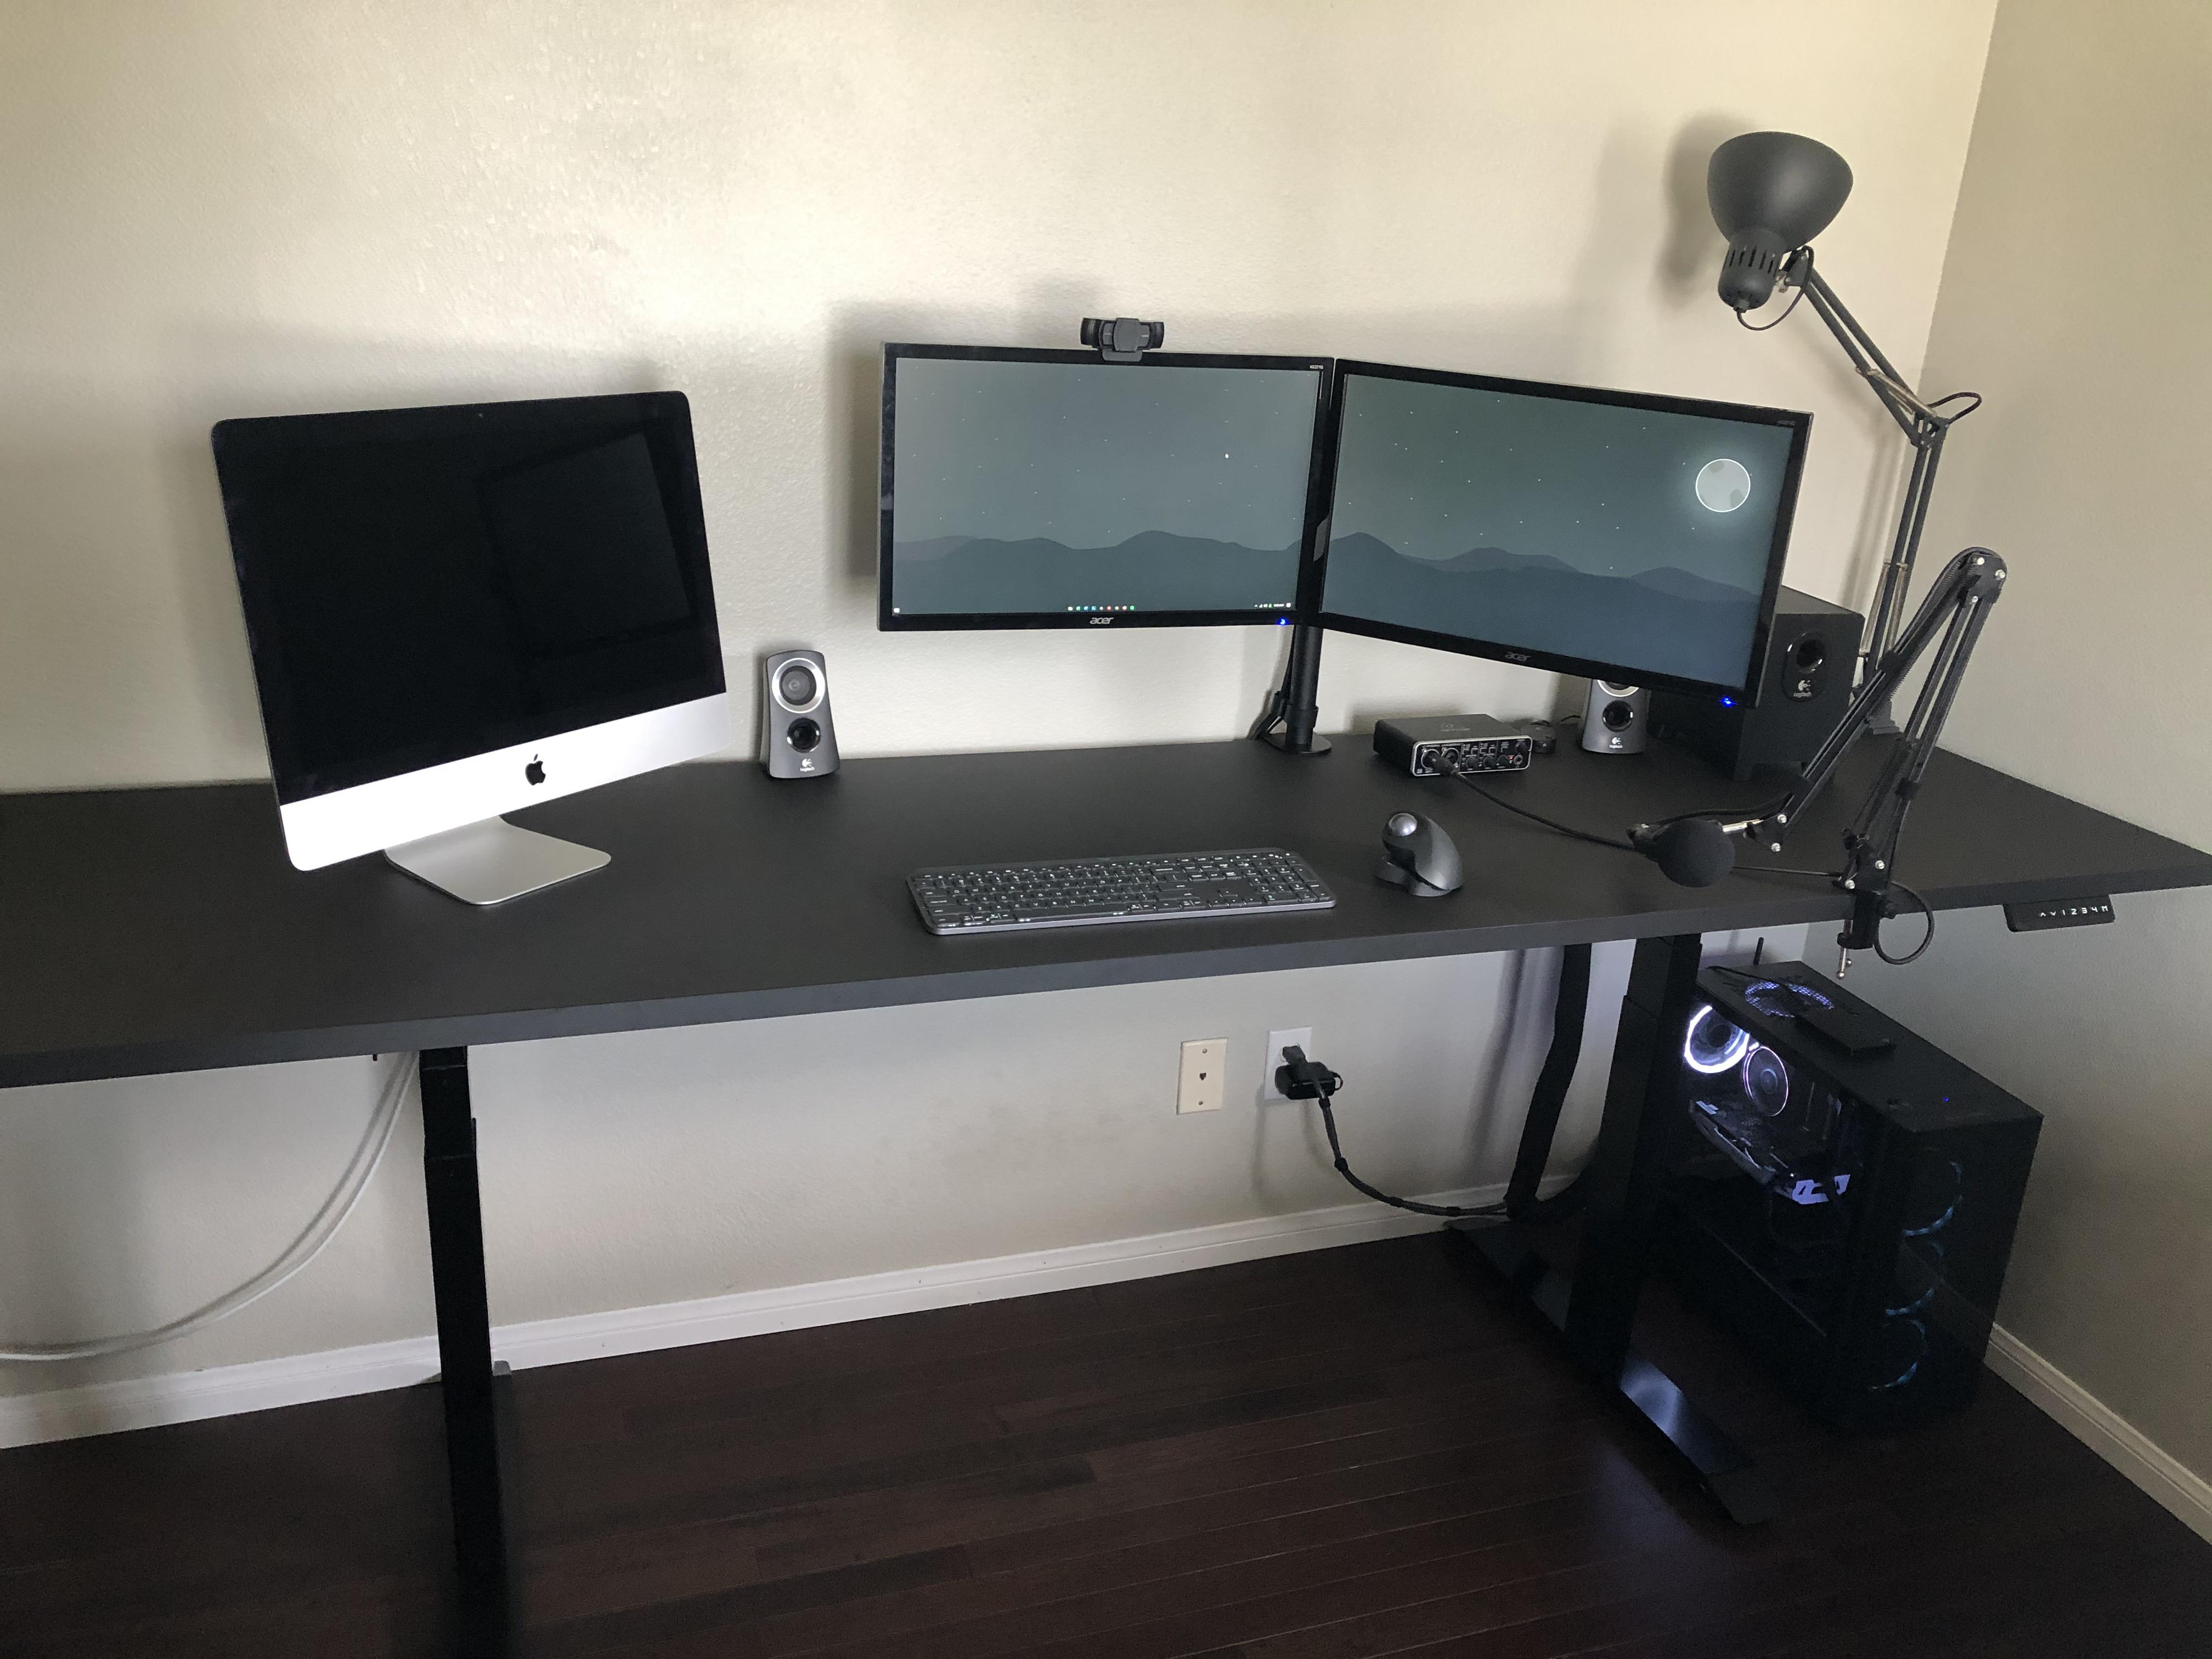Desk (Standing): (0, 669, 2191, 1628)
Desktop (Generic): (1613, 955, 2054, 1445)
External Hard Drive: (1794, 995, 1911, 1068)
External Microphone (with Boom Arm): (1625, 526, 2054, 955)
External Speakers (Generic): (749, 638, 846, 777), (1559, 657, 1683, 758)
External Speakers (Subwoofers): (1658, 573, 1869, 798)
External Webcam: (1064, 303, 1176, 369)
Keyboard (Ergonomic): (876, 836, 1357, 946)
Lamp (Desk): (1667, 103, 1984, 774)
Monitor (Landscape): (1303, 347, 1822, 714), (838, 338, 1331, 643)
Monitor (iMac): (186, 378, 744, 938)
